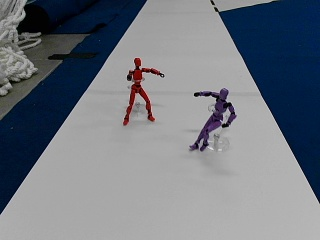pedestrian: (191, 87, 235, 152), (123, 57, 164, 124)
